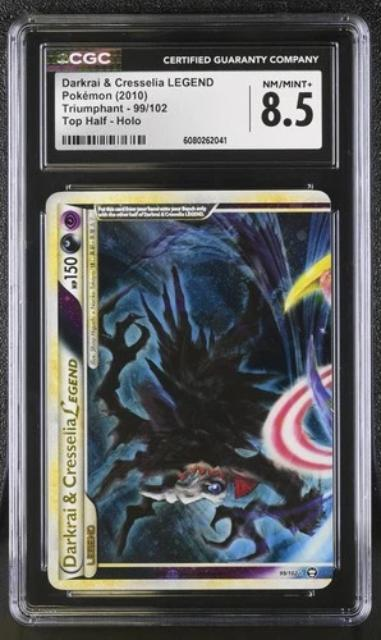Card: (42, 188, 340, 595)
Name: (57, 347, 85, 576)
